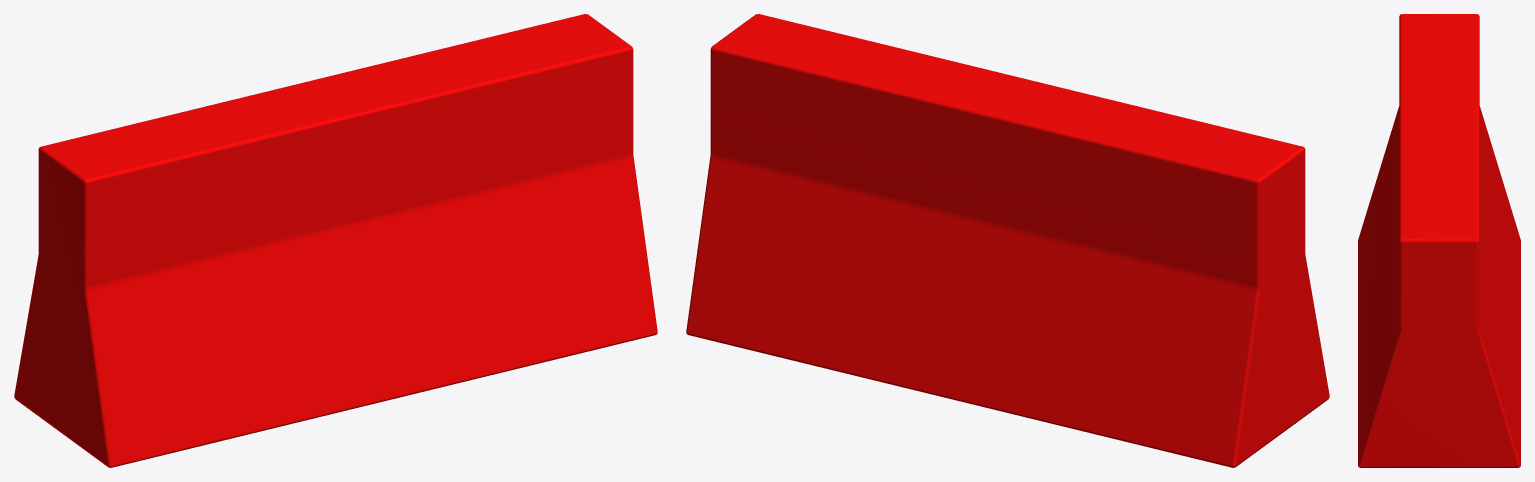
File: kerb_stone.glb
The picture shows the model from 3 angles, left to right: view 1: azimuth 30°, elevation 25°; view 2: azimuth 150°, elevation 25°; view 3: azimuth 270°, elevation 25°; orthographic projection. The views are drawn at different scales.
Visible parts, largest first — view 1: Object_2; view 2: Object_2; view 3: Object_2.
Part boxes in pixels (x1,y1,x2,y2): Object_2: [14, 14, 657, 467]; Object_2: [686, 14, 1329, 467]; Object_2: [1358, 14, 1520, 467].
Size of the model in its own units: 2.19 by 1.03 by 0.6649.
Materials: 1 (1 with a texture image).
